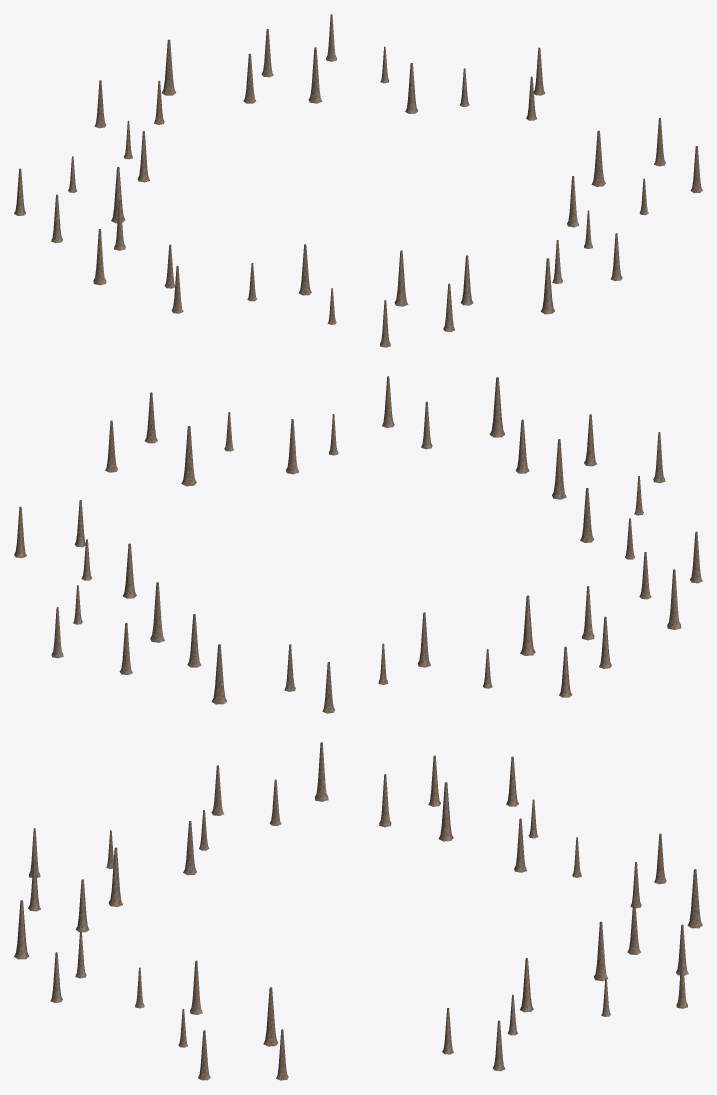
Rendered from tree1_gTREES.obj.
The picture shows the model from 3 angles, top to bottom: view 1: azimuth 30°, elevation 25°; view 2: azimuth 150°, elevation 25°; view 3: azimuth 270°, elevation 25°; orthographic projection. The views are drawn at different scales.
Parts seen in each view (by area): view 1: tree1:polySurface185_0, tree1:polySurface187_0, tree1:polySurface186_0, tree1:polySurface188_0; view 2: tree1:polySurface185_0, tree1:polySurface187_0, tree1:polySurface186_0, tree1:polySurface188_0; view 3: tree1:polySurface185_0, tree1:polySurface187_0, tree1:polySurface186_0, tree1:polySurface188_0.
Part boxes in pixels (x1,y1,x2,y2): tree1:polySurface185_0: (162, 14, 545, 120); tree1:polySurface187_0: (93, 229, 473, 347); tree1:polySurface186_0: (541, 118, 702, 314); tree1:polySurface188_0: (14, 80, 164, 250); tree1:polySurface185_0: (14, 500, 227, 704); tree1:polySurface187_0: (515, 414, 702, 629); tree1:polySurface186_0: (105, 376, 505, 486); tree1:polySurface188_0: (284, 586, 611, 713); tree1:polySurface185_0: (442, 869, 702, 1071); tree1:polySurface187_0: (28, 742, 328, 932); tree1:polySurface186_0: (14, 900, 288, 1080); tree1:polySurface188_0: (379, 755, 666, 908).
Bounding box in the file's own units: 4332 × 395 × 4422.
